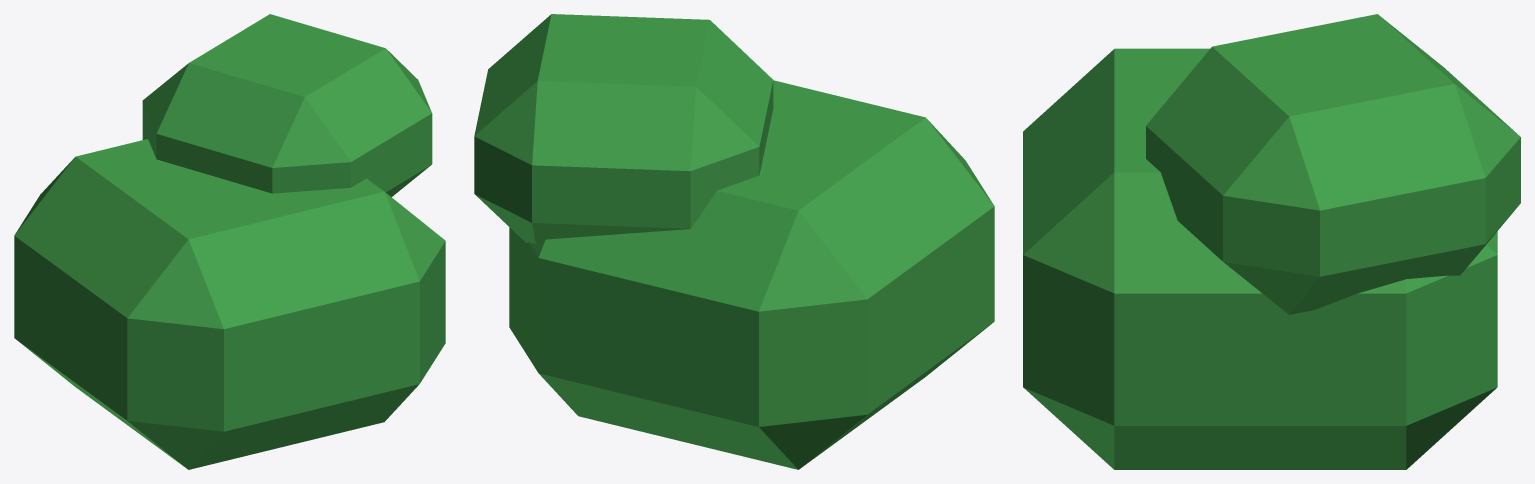
File: tree_bush.glb
3 views of the same model, side by side, from view 1: azimuth 30°, elevation 25°; view 2: azimuth 150°, elevation 25°; view 3: azimuth 270°, elevation 25° (orthographic). The views are drawn at different scales.
Visible parts, largest first — view 1: tree_leaves; view 2: tree_leaves; view 3: tree_leaves.
Part boxes in pixels (x1=…): tree_leaves: x1=14, y1=14, x2=445, y2=469; tree_leaves: x1=474, y1=14, x2=994, y2=469; tree_leaves: x1=1023, y1=14, x2=1520, y2=469.
Size of the model in its own units: 1.51 by 1.2 by 1.36.
